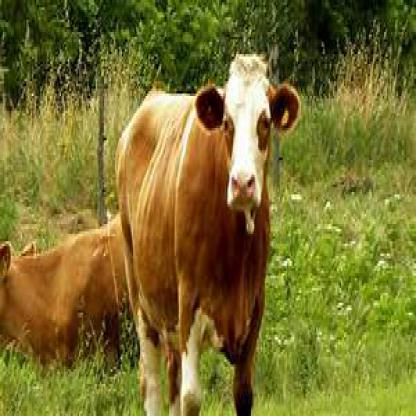cow: (116, 51, 301, 414)
